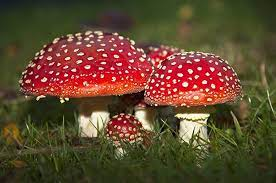Amanita muscaria: (11, 28, 152, 136), (145, 52, 248, 151), (104, 112, 148, 158)
